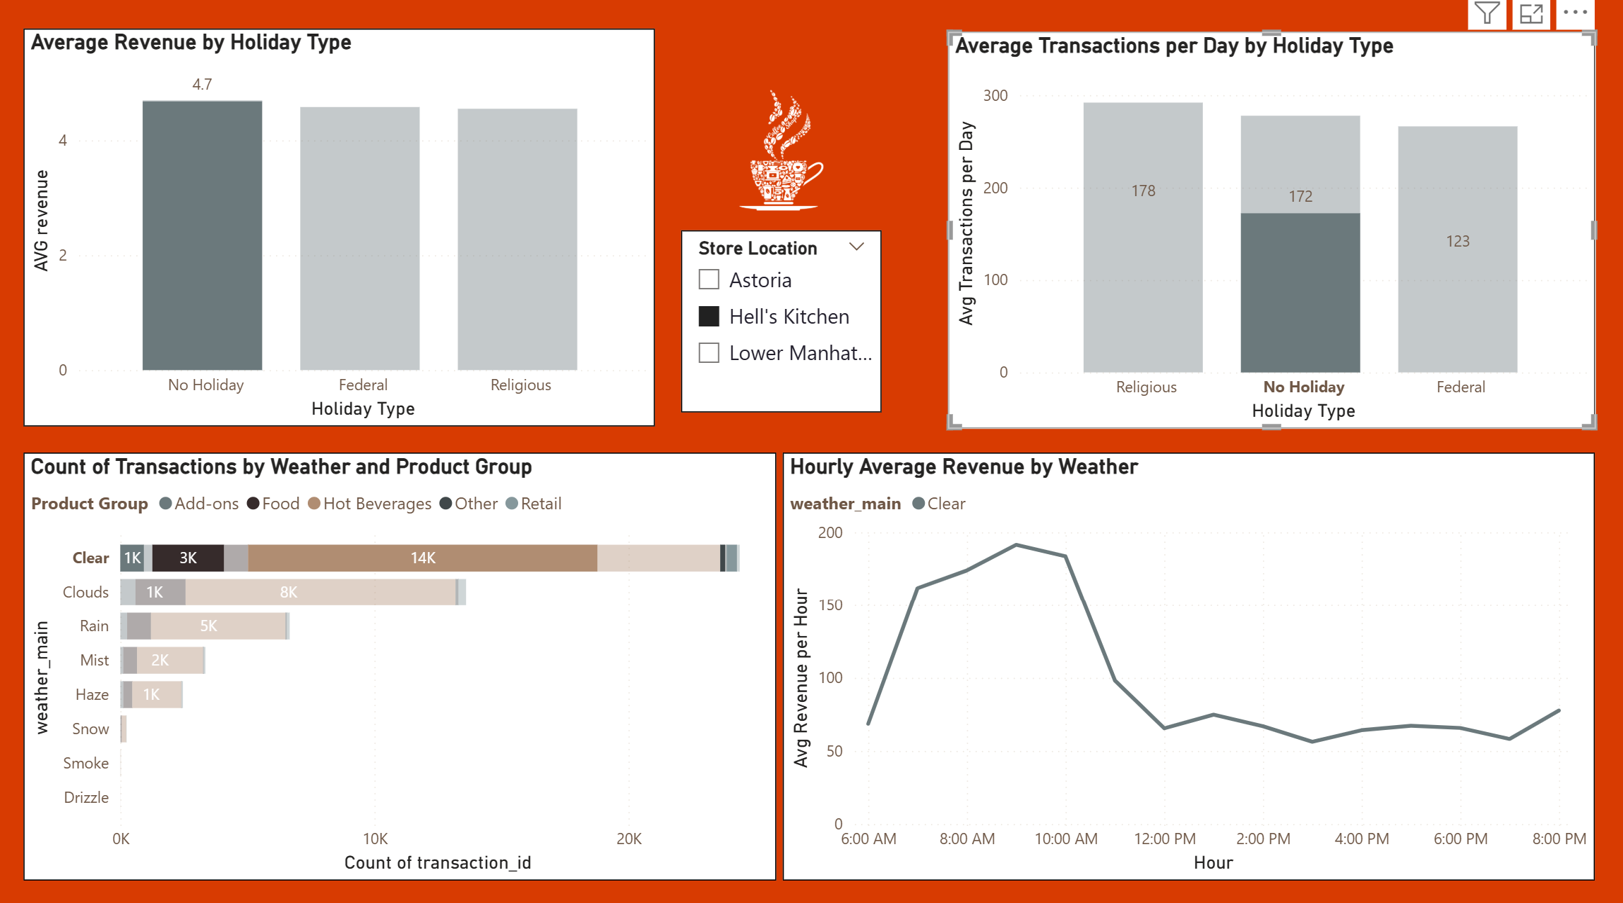

This screenshot's page, from the dashboard's own definition file:
{"tool":"powerbi","page":{"name":"3.WEATHER & HOLIDAYS IMPACT","canvas":[1280,720],"ordinal":2},"visuals":[{"type":"columnChart","title":"Average Revenue by Holiday Type","fields":{"Category":["us_calendar_jan_jun_2023_with_r.Holiday Type"],"Y":["Transactions.AVG revenue"]},"box":[21.4,24.3,496.8,315.5],"z":0},{"type":"columnChart","title":"Average Transactions per Day by Holiday Type","fields":{"Category":["us_calendar_jan_jun_2023_with_r.Holiday Type"],"Y":["Transactions.Avg Transactions per Day"]},"box":[749.2,26,509.2,314.9],"z":1000},{"type":"barChart","title":"Count of Transactions by Weather and Product Group","fields":{"Y":["CountNonNull(Transactions.transaction_id)"],"Series":["Transactions.Product Group"],"Category":["New York Weather Data.weather_main"]},"box":[20.8,359.5,592.3,339.8],"z":2000},{"type":"lineChart","title":"Hourly Average Revenue by Weather","fields":{"Category":["Transactions.Hour"],"Y":["Transactions.Avg Revenue per Hour"],"Series":["New York Weather Data.weather_main"]},"box":[619.3,359.5,639.1,339.8],"z":3000},{"type":"slicer","fields":{"Values":["Transactions.store_location"]},"box":[539.3,183.9,158,144.4],"z":4000},{"type":"image","box":[539.3,72.7,158,95.6],"z":5000}]}

Visuals, with their boxes in screenshot pixels (x1, y1, x2, y2), scaled from the page's 1280x720 canvas onto the 1623x903 screenshot:
"Average Revenue by Holiday Type" columnChart: [x1=27, y1=30, x2=657, y2=426]
"Average Transactions per Day by Holiday Type" columnChart: [x1=950, y1=33, x2=1596, y2=428]
"Count of Transactions by Weather and Product Group" barChart: [x1=26, y1=451, x2=777, y2=877]
"Hourly Average Revenue by Weather" lineChart: [x1=785, y1=451, x2=1596, y2=877]
slicer - Transactions.store_location: [x1=684, y1=231, x2=884, y2=412]
image: [x1=684, y1=91, x2=884, y2=211]
